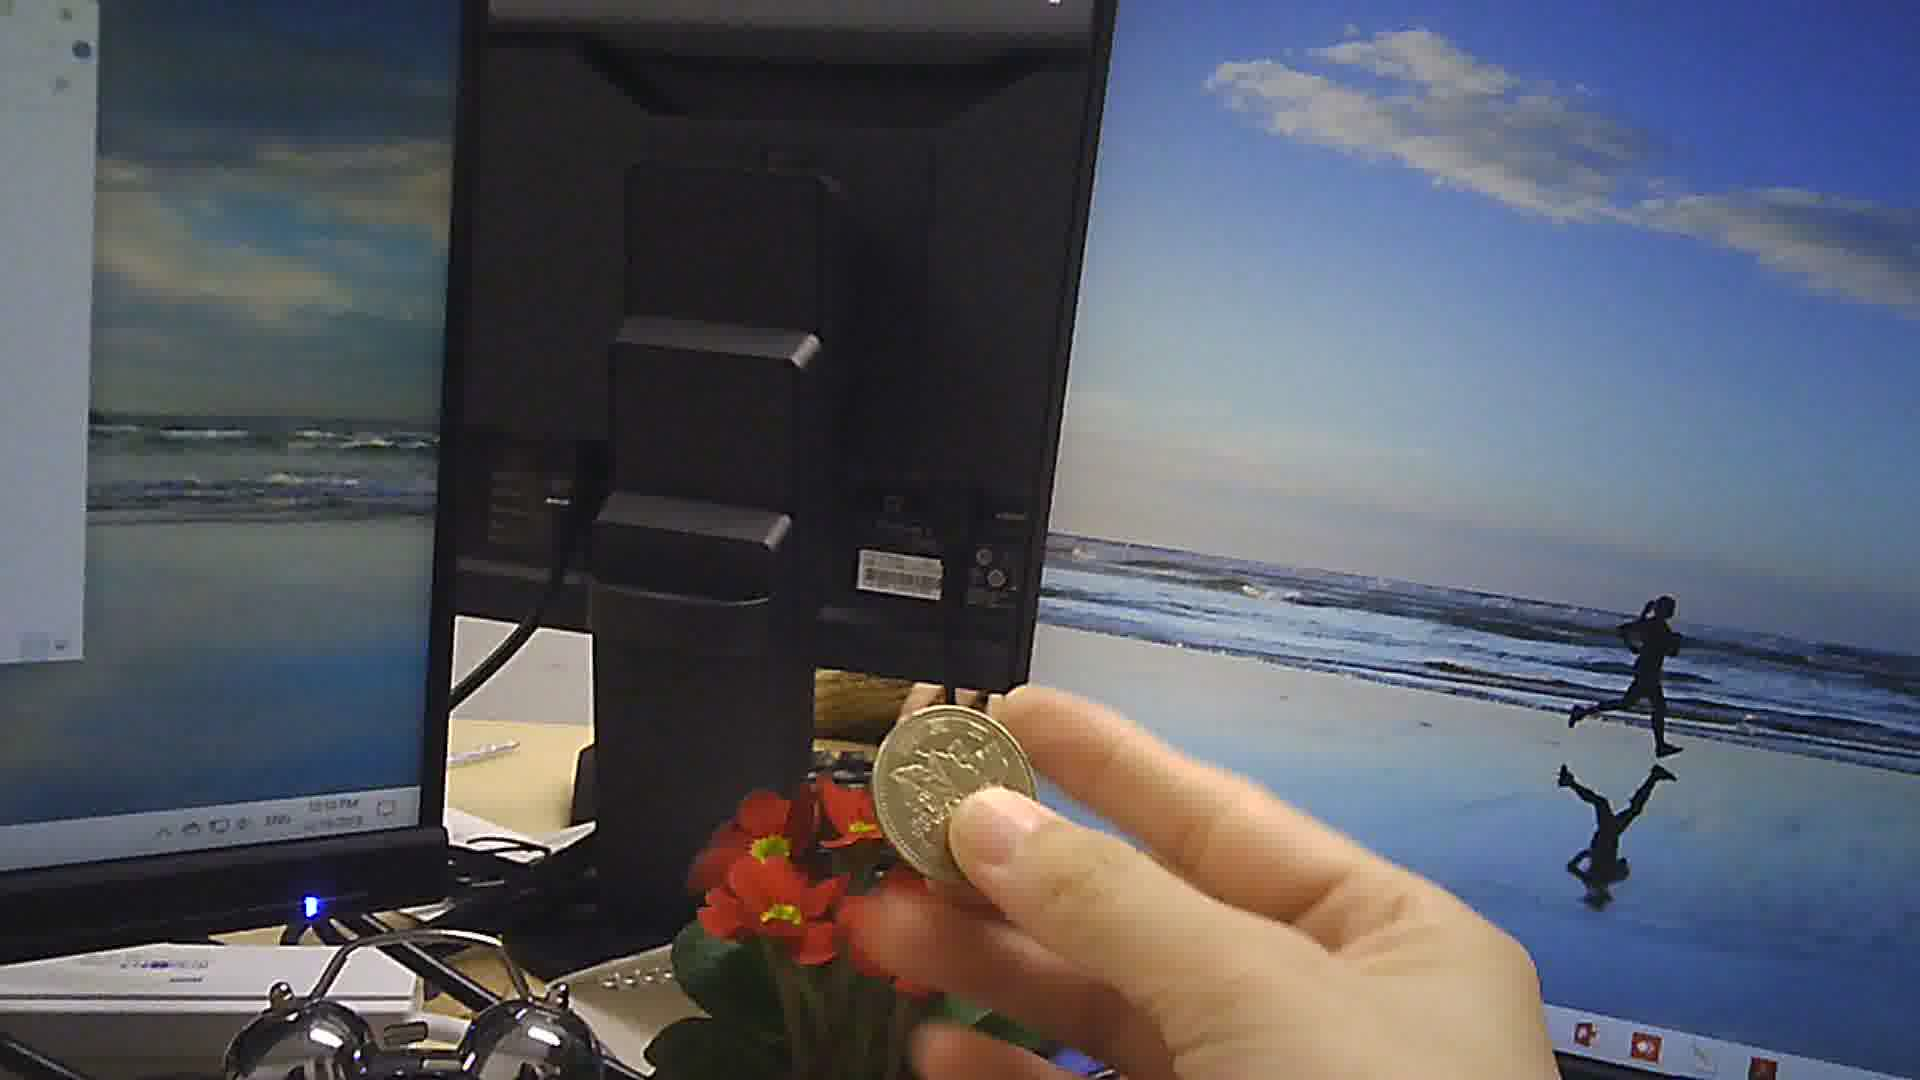500 Yen: (865, 700, 1042, 872)
